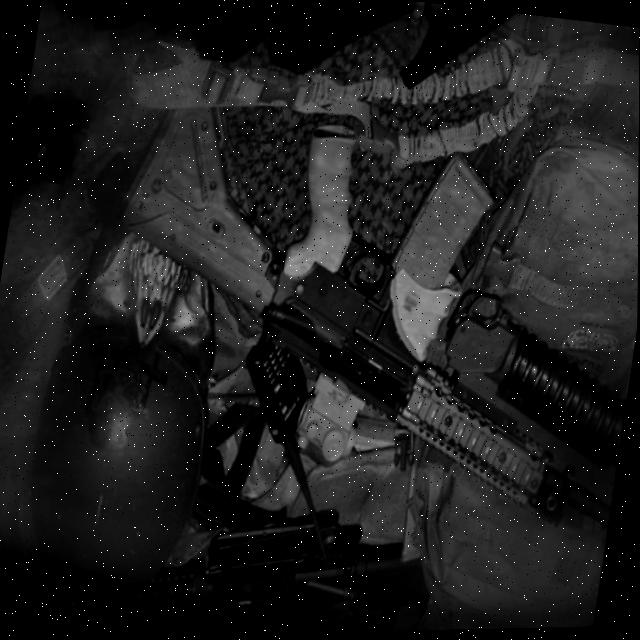firearm: (83, 94, 639, 576), (0, 483, 439, 640)
pistol: (400, 1, 532, 109)
